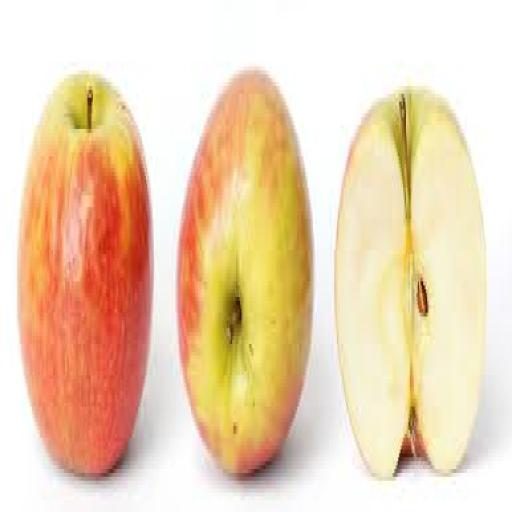Apple: (336, 90, 485, 476), (178, 71, 313, 472), (19, 75, 152, 476)
